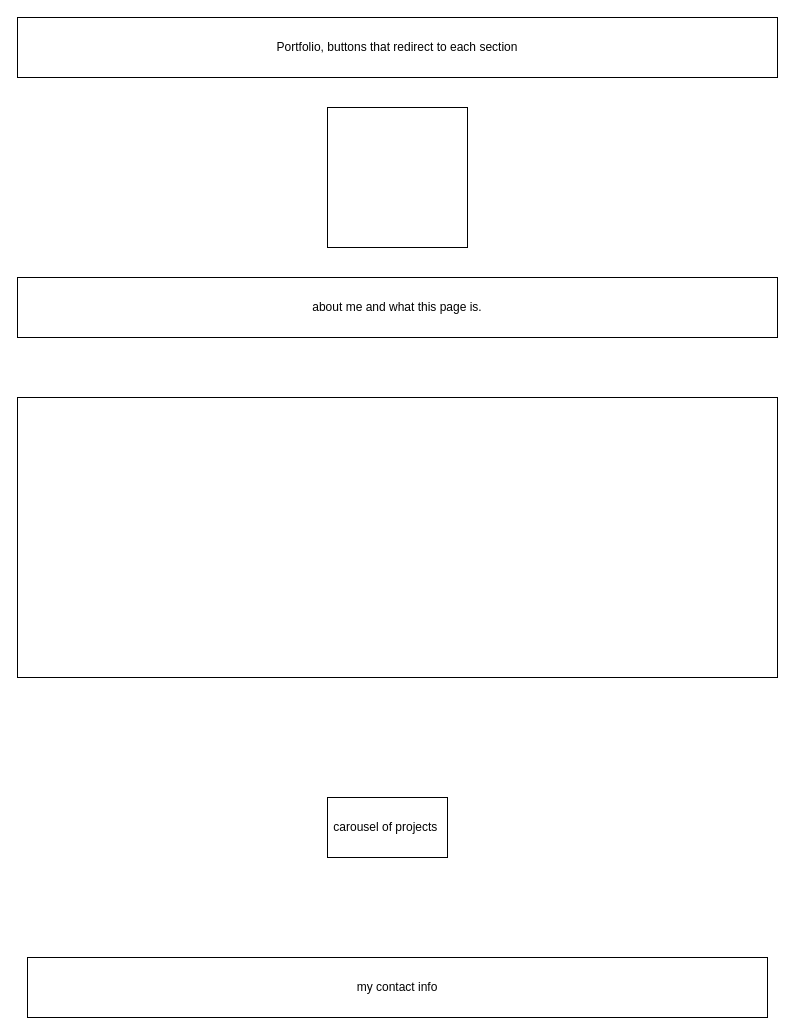
Some shapes in this 795 by 1035 pixel diagram are drawn without their labels. Each missing label, with the centre of its shape:
"my projects and some details about them/ what devCode is and how it's effective" belongs at (x=397, y=537).
"photo of myself" belongs at (x=397, y=177).
